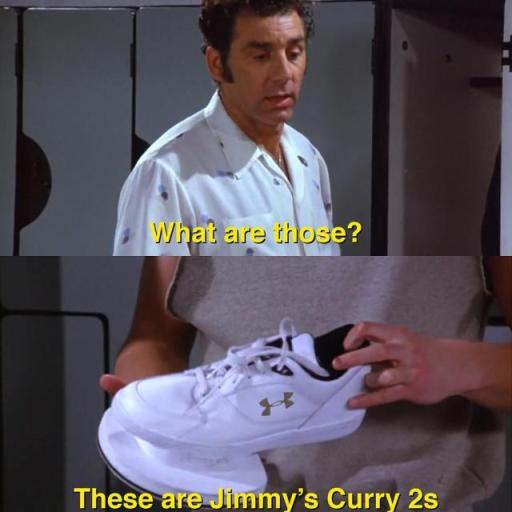Under Armour: (257, 390, 296, 420)
